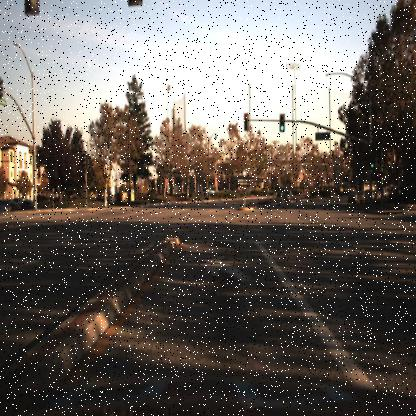car: (198, 185, 219, 199), (280, 187, 291, 201), (274, 188, 284, 200)
trafficLight-Green: (279, 112, 286, 133), (278, 120, 286, 138), (368, 152, 376, 170), (366, 160, 374, 174)
trafficLight-Red: (375, 168, 383, 182)
trafficLight-RedLeft: (241, 110, 251, 136), (243, 112, 249, 126)
